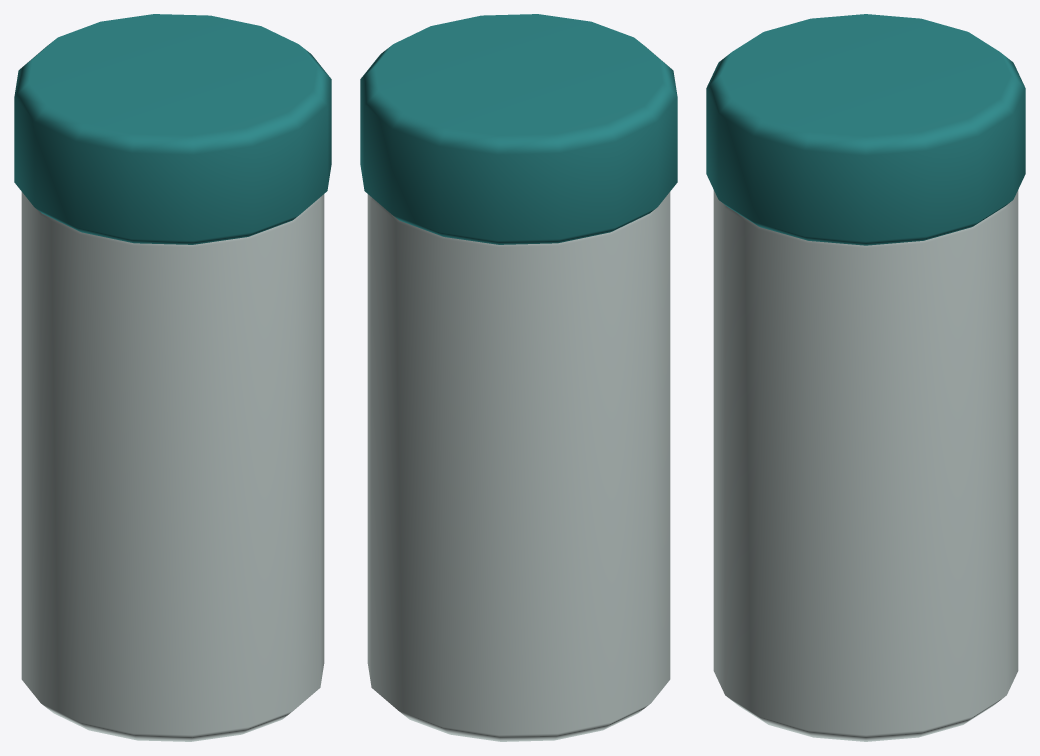
The model's file is vial.glb.
3 renders of one model, left to right at view 1: azimuth 30°, elevation 25°; view 2: azimuth 150°, elevation 25°; view 3: azimuth 270°, elevation 25°, orthographic.
Parts seen in each view (by area): view 1: Blank vial body, Sealed top; view 2: Blank vial body, Sealed top; view 3: Blank vial body, Sealed top.
Boxes of the visible parts, box(x1,y1,x2,y2) form: Blank vial body: box(21, 192, 324, 741); Sealed top: box(14, 14, 331, 244); Blank vial body: box(367, 192, 670, 741); Sealed top: box(360, 14, 677, 244); Blank vial body: box(713, 190, 1018, 741); Sealed top: box(706, 14, 1025, 245).
Bounding box in the file's own units: 0.044 × 0.0925 × 0.044.
